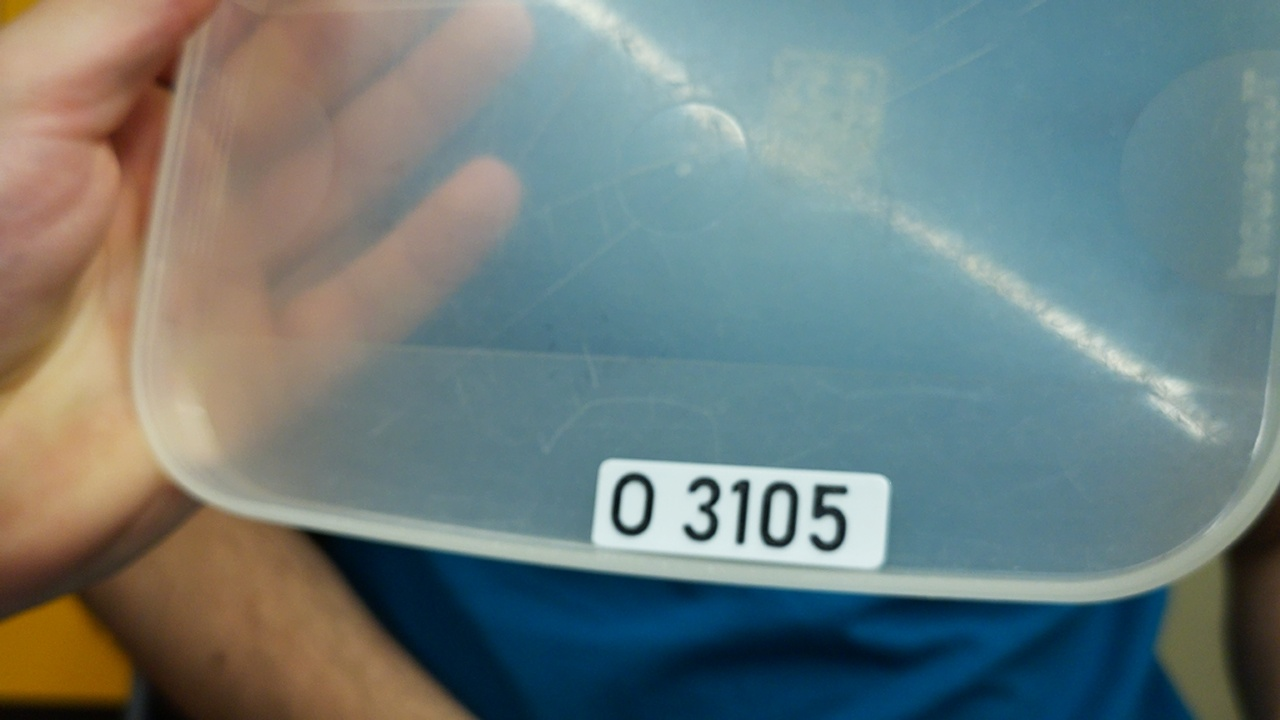license_plate: (588, 454, 895, 571)
